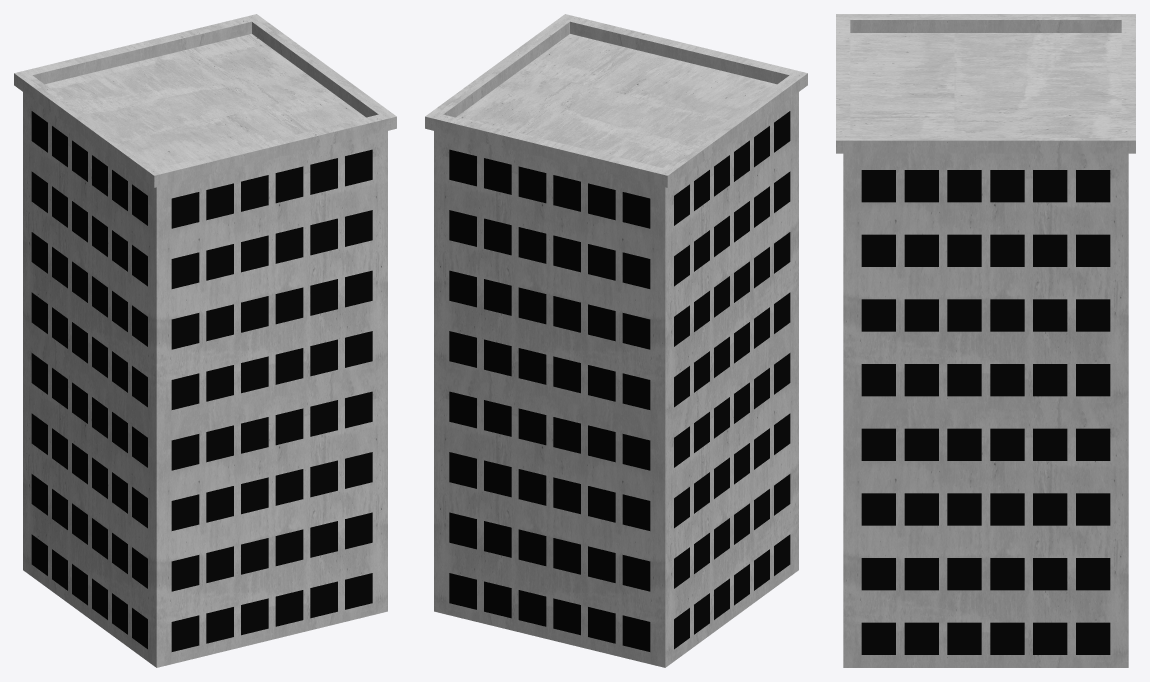
The model's file is building_1.obj.
The picture shows the model from 3 angles, left to right: view 1: azimuth 30°, elevation 25°; view 2: azimuth 150°, elevation 25°; view 3: azimuth 270°, elevation 25°; orthographic projection. The views are drawn at different scales.
Parts seen in each view (by area): view 1: bulding_1; view 2: bulding_1; view 3: bulding_1.
Part boxes in pixels (box(x1,y1,x2,y2)): bulding_1: box(14, 14, 396, 667); bulding_1: box(425, 14, 807, 667); bulding_1: box(836, 14, 1135, 667).
Bounding box in the file's own units: 21 × 41 × 21.
